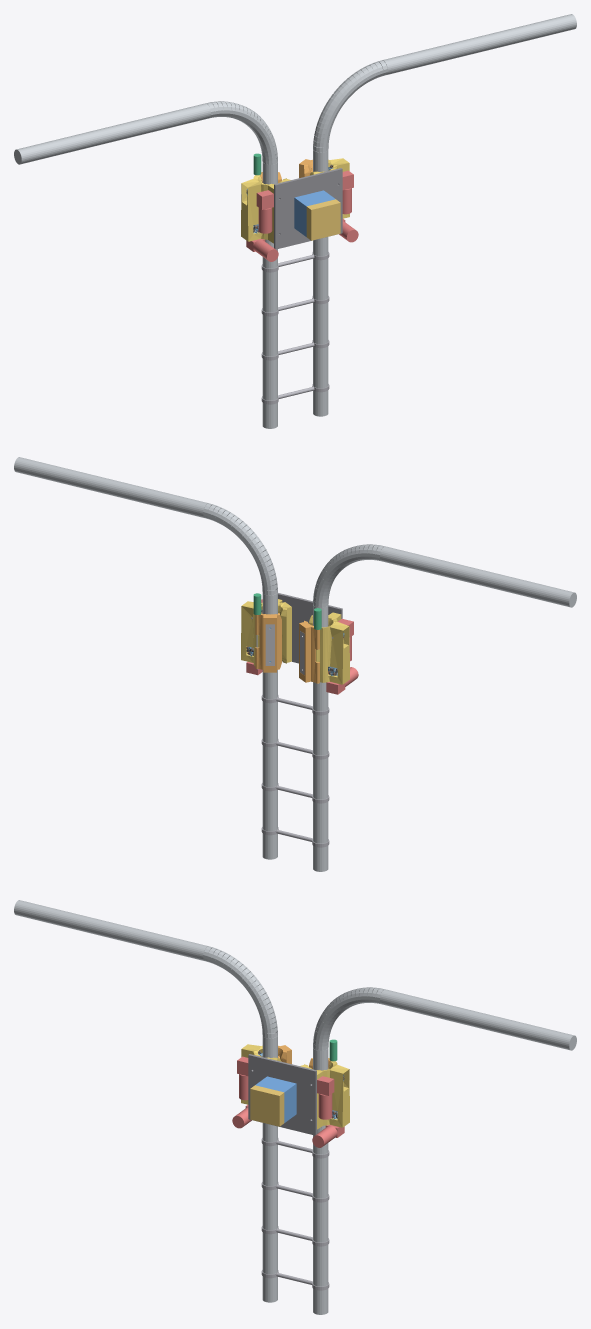
The model's file is sim-transfer-v1.glb.
3 views of the same model, one above another, from view 1: azimuth 30°, elevation 25°; view 2: azimuth 150°, elevation 25°; view 3: azimuth 330°, elevation 25° (orthographic).
Parts seen in each view (by area): view 1: 0, 18, 3, 2, 1, 20, 19; view 2: 0, 2, 5, 1, 18, 3, 8; view 3: 0, 18, 3, 2, 1, 20, 19.
Part boxes in pixels (x1,y1,x2,y2): 0: (14,14,576,428); 18: (274,168,342,249); 3: (246,170,358,261); 2: (241,158,349,243); 1: (261,252,329,404); 20: (306,199,340,240); 19: (294,190,335,236); 0: (14,457,576,871); 2: (241,599,349,684); 5: (255,613,319,683); 1: (261,695,329,847); 18: (278,593,342,663); 3: (246,599,358,694); 8: (265,624,304,674); 0: (14,900,576,1314); 18: (248,1054,316,1135); 3: (232,1056,344,1147); 2: (241,1044,349,1129); 1: (261,1138,329,1290); 20: (250,1085,284,1126); 19: (255,1076,296,1122).
Bounding box in the file's own units: 1320 × 766 × 171.
